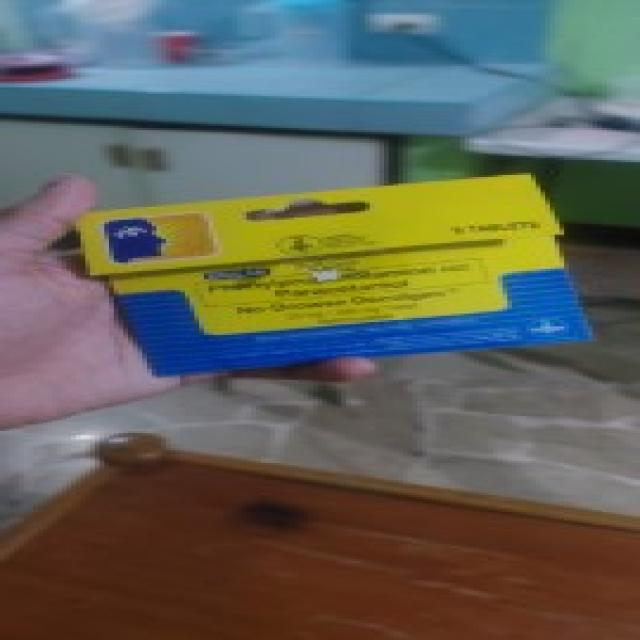Cacat: (78, 170, 600, 378)
